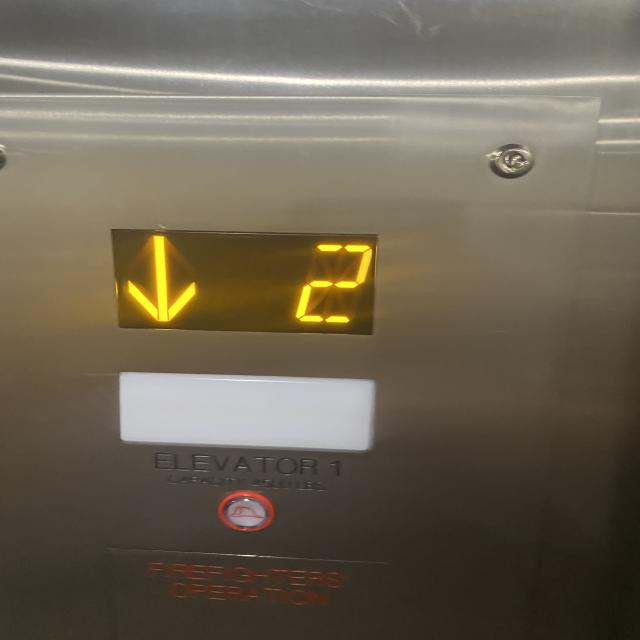box: (84, 225, 414, 343)
